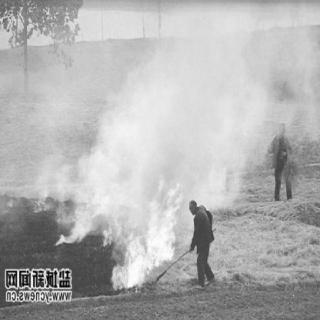Fire: (114, 178, 184, 290)
